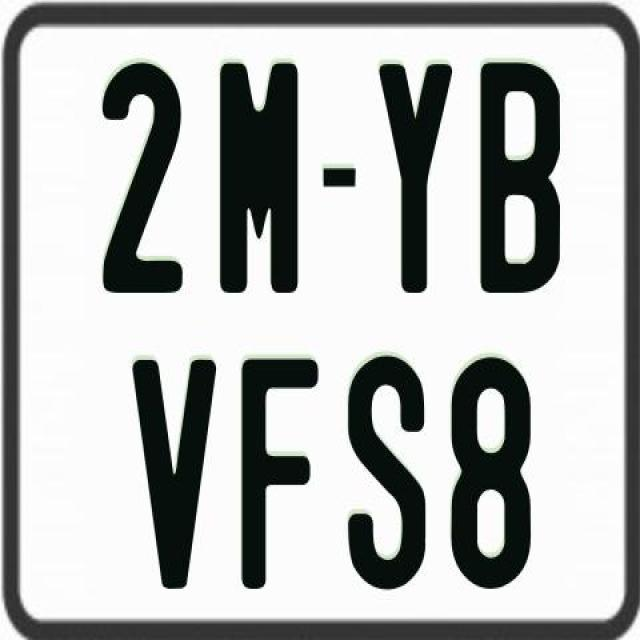2: (98, 61, 178, 292)
8: (448, 356, 536, 594)
B: (478, 58, 562, 296)
F: (241, 356, 327, 590)
M: (220, 58, 302, 296)
S: (346, 356, 426, 594)
V: (128, 361, 218, 594)
Y: (378, 63, 450, 300)
